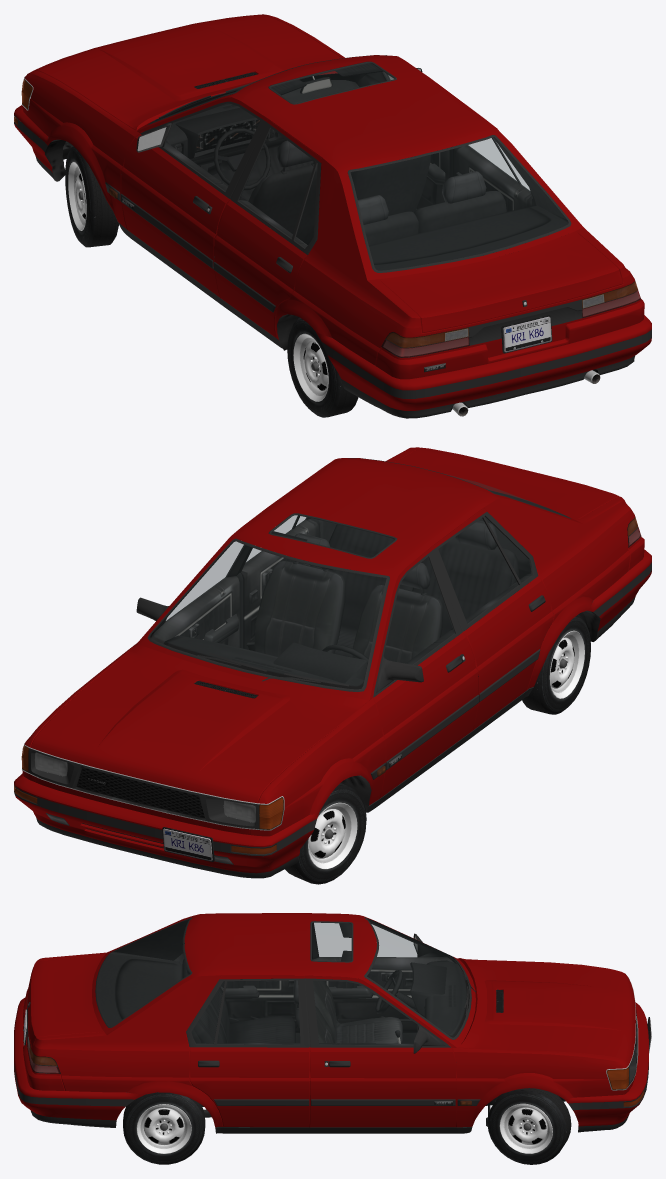
The model's file is sedan_86.glb.
3 renders of one model, top to bottom at view 1: azimuth 30°, elevation 25°; view 2: azimuth 150°, elevation 25°; view 3: azimuth 270°, elevation 25°, orthographic. The views are drawn at different scales.
Parts seen in each view (by area): view 1: body, wheel_RL, wheel_FL; view 2: body, wheel_FL, wheel_RL; view 3: body, wheel_RR, wheel_FR.
Boxes of the visible parts, box(x1,y1,x2,y2) form: body: box(14, 14, 651, 418); wheel_RL: box(287, 317, 467, 417); wheel_FL: box(20, 121, 118, 247); body: box(14, 447, 651, 882); wheel_FL: box(214, 785, 366, 884); wheel_RL: box(537, 610, 600, 714); body: box(14, 913, 651, 1145); wheel_RR: box(123, 1092, 205, 1164); wheel_FR: box(487, 1090, 634, 1164).
Size of the model in its own units: 1.91 by 1.43 by 4.69.
Materials: 9 (8 with a texture image).
